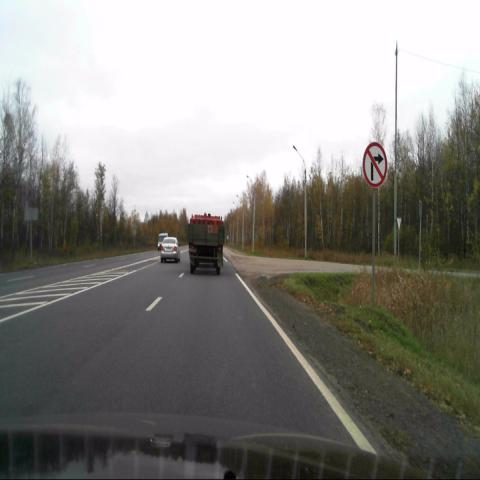3_18: (362, 142, 387, 187)
